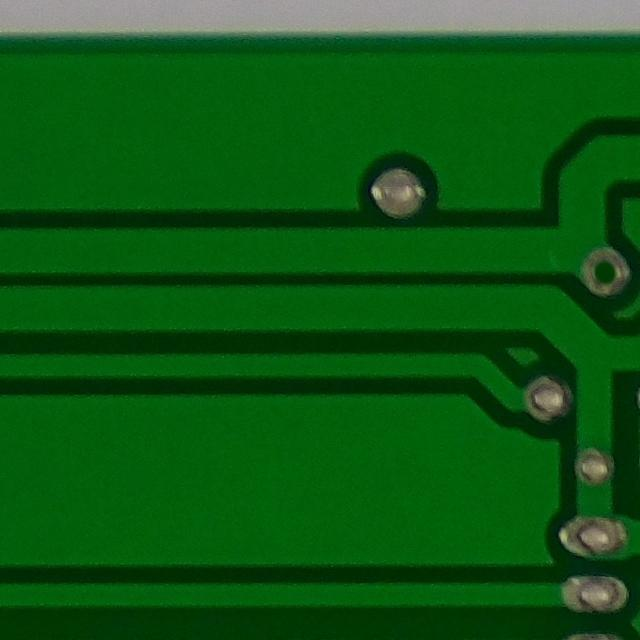missing_hole: (578, 243, 639, 309)
